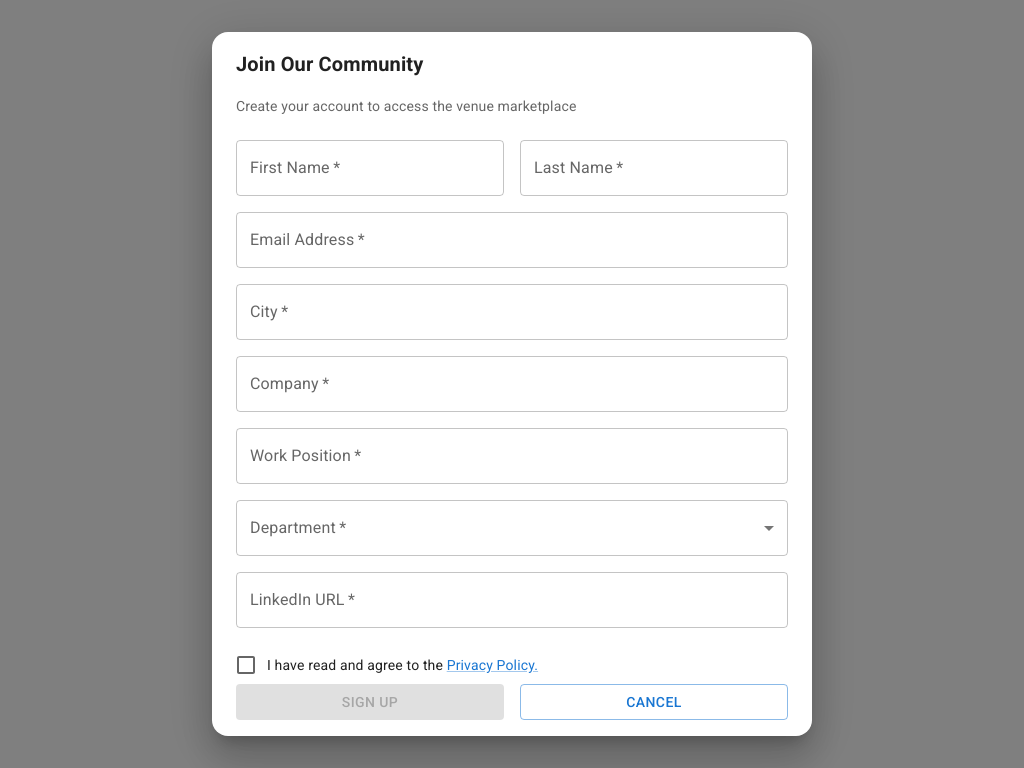
it: Signup Component › check department dropdown
The width and height of the screenshot is (1024, 768).
Click the dropdown named "Department".
click(512, 528)  # box [236,500,788,556]
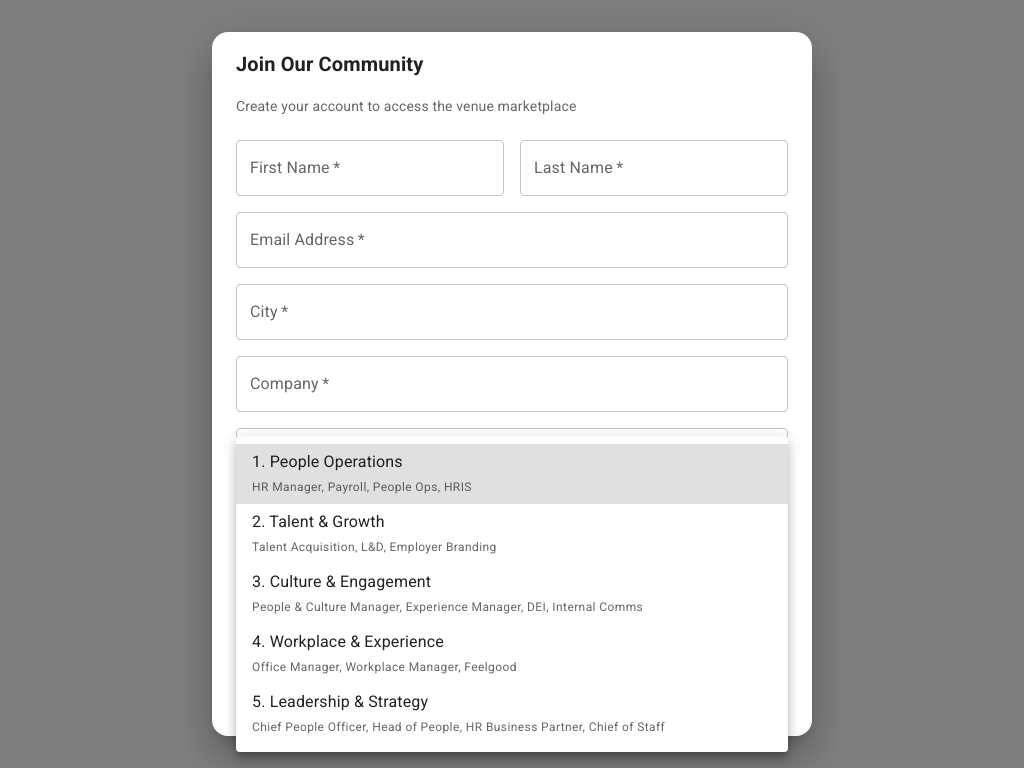
Now the text "1. People Operations" is shown, box [252,452,403,471]
Now the text "2. Talent & Growth" is shown, box [252,512,385,531]
Now the text "3. Culture & Engagement" is shown, box [252,572,431,591]
